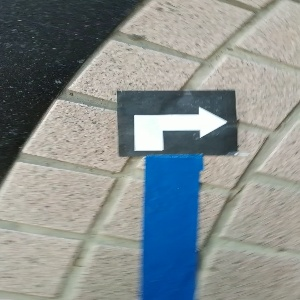right: (117, 91, 238, 155)
